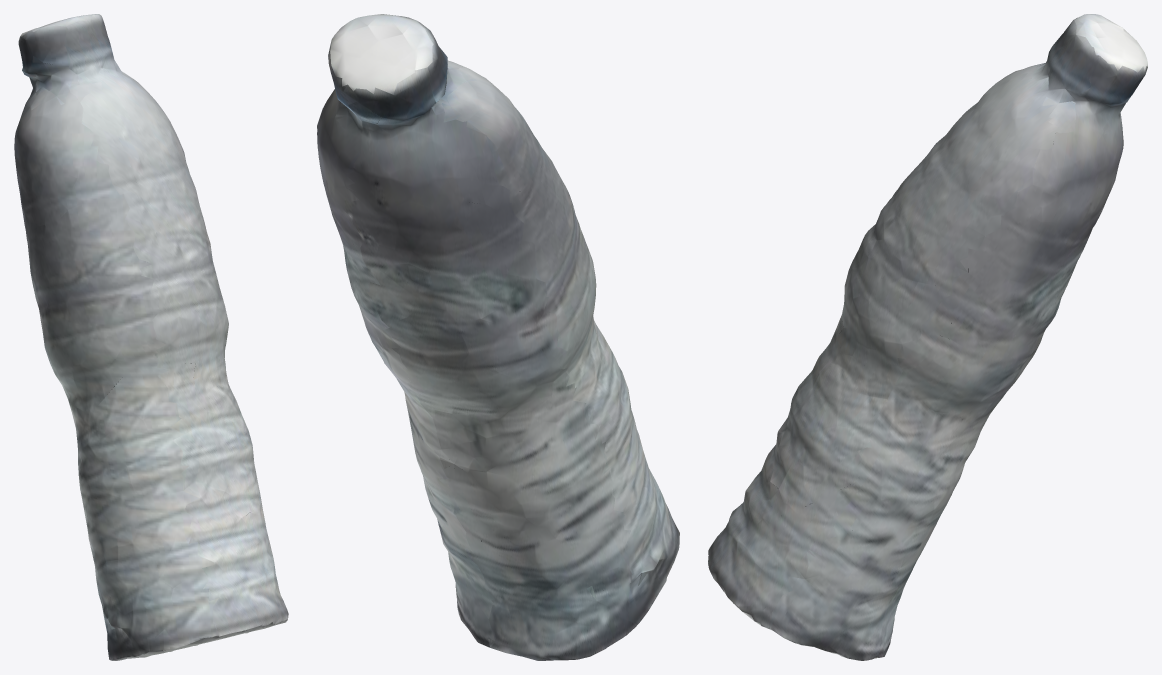
File: bottle.glb
3 views of the same model, side by side, from view 1: azimuth 30°, elevation 25°; view 2: azimuth 150°, elevation 25°; view 3: azimuth 270°, elevation 25° (orthographic). The views are drawn at different scales.
Parts seen in each view (by area): view 1: world; view 2: world; view 3: world.
Part boxes in pixels (bbox=[...]): world: bbox=[14, 14, 288, 660]; world: bbox=[317, 14, 679, 660]; world: bbox=[708, 14, 1147, 660].
Size of the model in its own units: 0.273 by 0.9166 by 0.589.
Materials: 1 (1 with a texture image).
